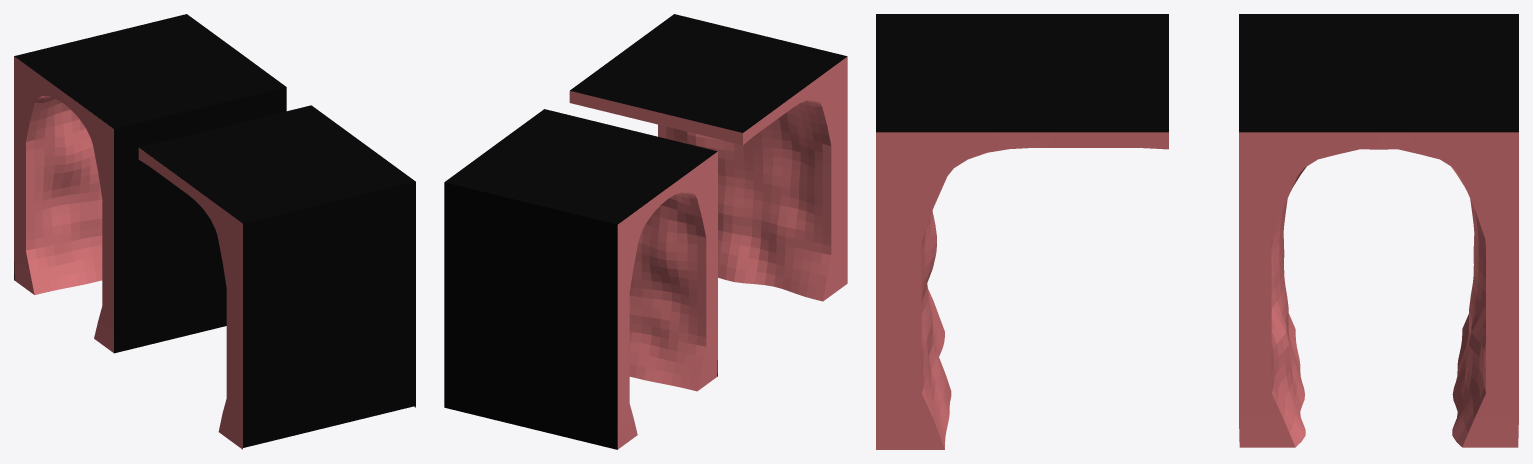
File: 11-CaveWall_Single_And_Double.fbx
3 renders of one model, left to right at view 1: azimuth 30°, elevation 25°; view 2: azimuth 150°, elevation 25°; view 3: azimuth 270°, elevation 25°, orthographic. The views are drawn at different scales.
Visible parts, largest first — view 1: CaveTileSingleLightStopper, CaveTileDoubleWallLightStopper, CaveTileDoubleWall, CaveTileSingle; view 2: CaveTileDoubleWallLightStopper, CaveTileSingle, CaveTileDoubleWall, CaveTileSingleLightStopper; view 3: CaveTileDoubleWall, CaveTileSingleLightStopper, CaveTileDoubleWallLightStopper, CaveTileSingle.
Part boxes in pixels (box(x1,y1,x2,y2)): CaveTileSingleLightStopper: box(139, 105, 415, 447); CaveTileDoubleWallLightStopper: box(14, 14, 286, 353); CaveTileDoubleWall: box(14, 56, 113, 352); CaveTileSingle: box(138, 148, 415, 449); CaveTileDoubleWallLightStopper: box(444, 109, 717, 449); CaveTileSingle: box(569, 56, 847, 301); CaveTileDoubleWall: box(617, 151, 717, 449); CaveTileSingleLightStopper: box(570, 14, 847, 132); CaveTileDoubleWall: box(1239, 132, 1518, 447); CaveTileSingleLightStopper: box(876, 14, 1168, 132); CaveTileDoubleWallLightStopper: box(1239, 14, 1518, 132); CaveTileSingle: box(876, 132, 1168, 449).
Size of the model in its own units: 401 by 501 by 919.
